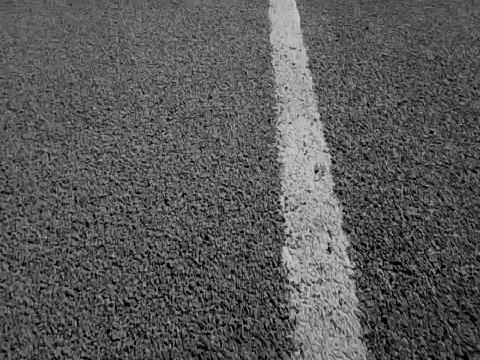Lines: (266, 0, 373, 360)
